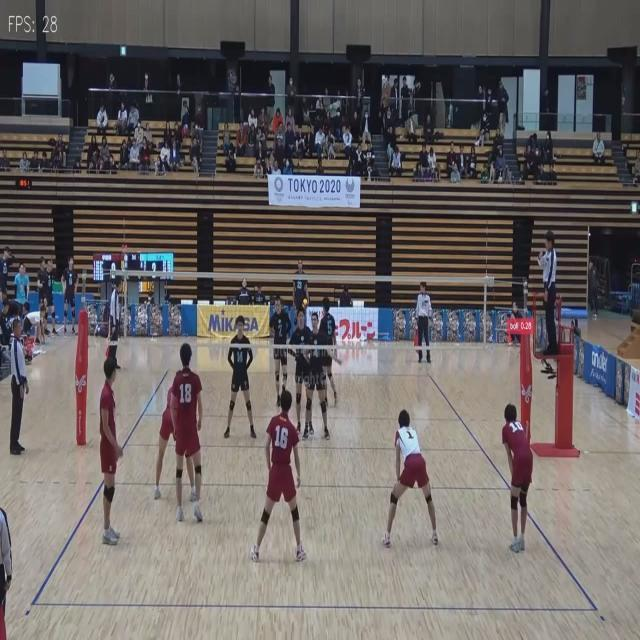volleyball: (302, 299, 308, 309)
